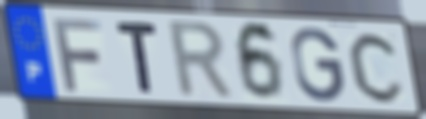6: (232, 19, 288, 107)
C: (346, 29, 408, 106)
F: (50, 15, 105, 95)
G: (288, 25, 347, 105)
R: (166, 18, 239, 103)
T: (112, 18, 161, 96)
